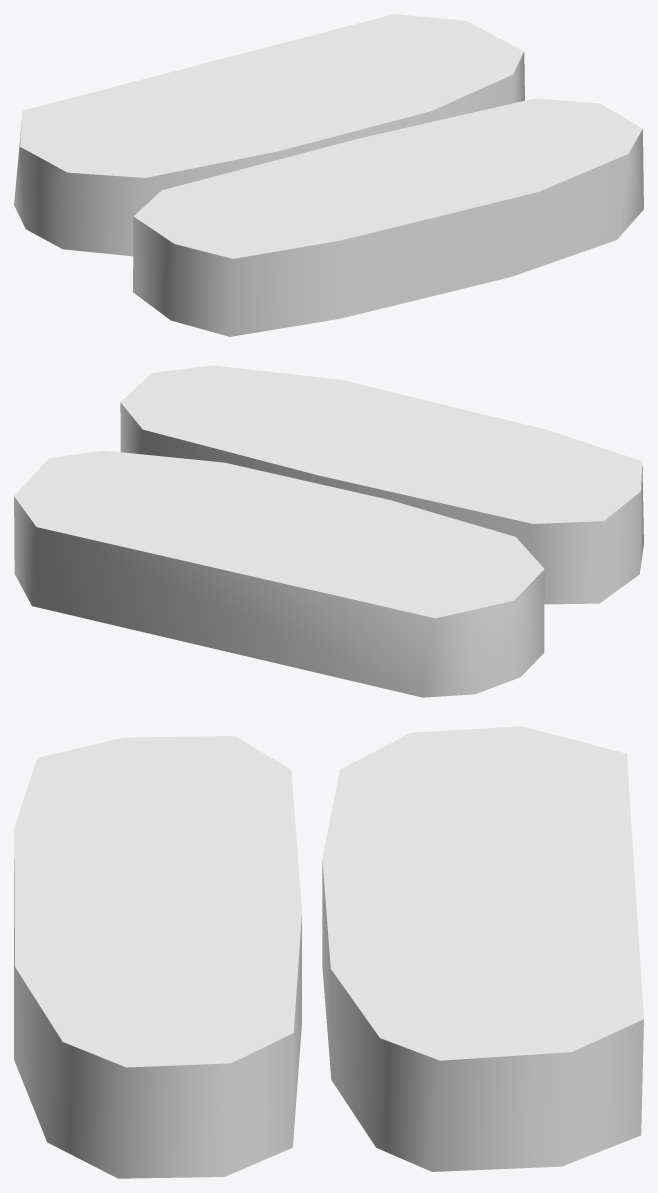
The model's file is Equal.fbx.
The picture shows the model from 3 angles, top to bottom: view 1: azimuth 30°, elevation 25°; view 2: azimuth 150°, elevation 25°; view 3: azimuth 270°, elevation 25°; orthographic projection. The views are drawn at different scales.
Visible parts, largest first — view 1: Equal; view 2: Equal; view 3: Equal.
Part boxes in pixels (x1,y1,x2,y2): Equal: [14, 14, 643, 336]; Equal: [14, 365, 643, 697]; Equal: [14, 726, 643, 1178].
Bounding box in the file's own units: 0.2137 × 0.0328 × 0.1666.
